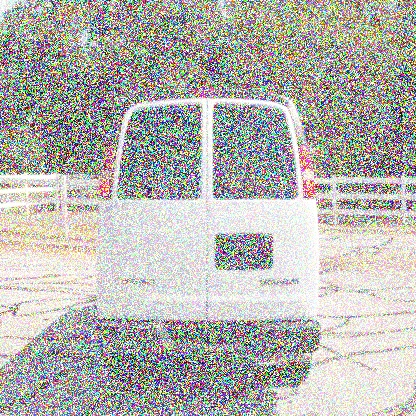Vehicle: (98, 87, 318, 387)
